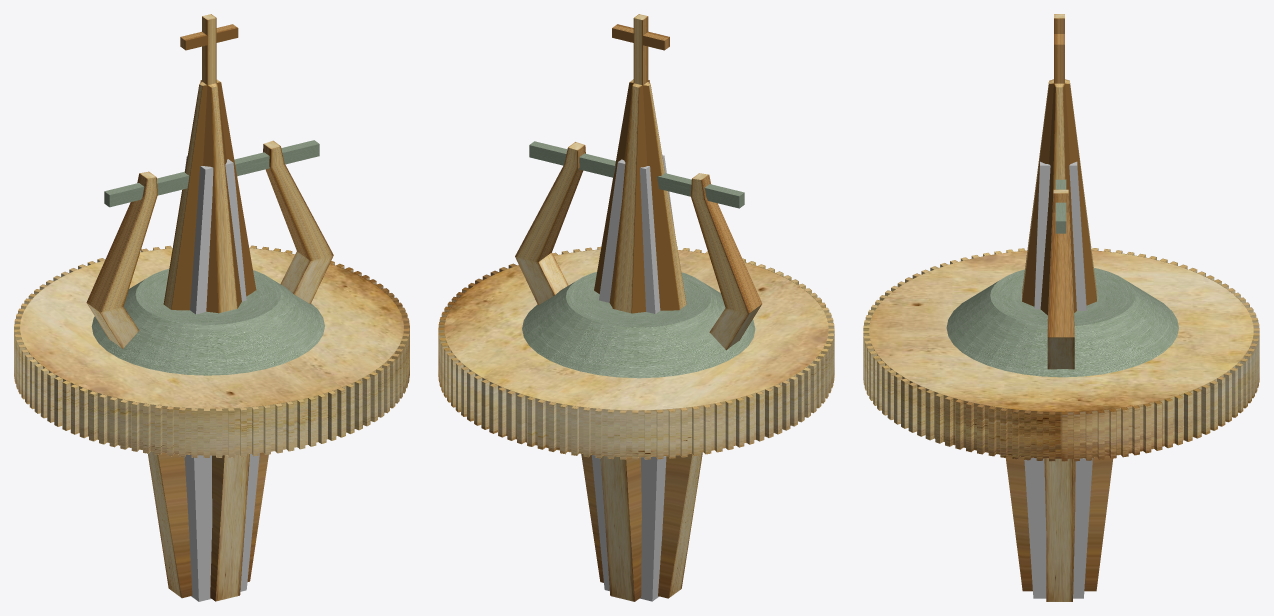
File: cruzUTPL.0.2.fbx
3 views of the same model, side by side, from view 1: azimuth 30°, elevation 25°; view 2: azimuth 150°, elevation 25°; view 3: azimuth 270°, elevation 25° (orthographic).
Visible parts, largest first — view 1: Cilindro, Cubo, Cono, Cubo_2, Cubo_3, Cubo_1, Cubo_4; view 2: Cilindro, Cubo, Cono, Cubo_2, Cubo_3, Cubo_1, Cubo_4; view 3: Cilindro, Cubo, Cono, Cubo_2, Cubo_1.
Boxes of the visible parts, box(x1,y1,x2,y2) form: Cilindro: box(14, 245, 409, 457); Cubo: box(148, 14, 268, 601); Cono: box(91, 269, 324, 375); Cubo_2: box(184, 156, 259, 601); Cubo_3: box(86, 171, 157, 348); Cubo_1: box(263, 140, 333, 303); Cubo_4: box(104, 140, 319, 207); Cilindro: box(438, 246, 834, 459); Cubo: box(581, 14, 702, 601); Cono: box(522, 272, 755, 378); Cubo_2: box(591, 155, 674, 601); Cubo_3: box(690, 173, 762, 350); Cubo_1: box(515, 142, 585, 305); Cubo_4: box(529, 141, 744, 208); Cilindro: box(863, 248, 1259, 461); Cubo: box(1005, 14, 1112, 601); Cono: box(946, 268, 1178, 377); Cubo_2: box(1024, 161, 1092, 598); Cubo_1: box(1047, 189, 1074, 369).
Bounding box in the file's own units: 412 × 655 × 412.
3 materials, 2 textured.
